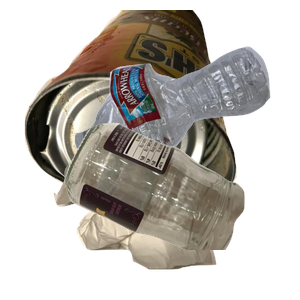glass: (62, 120, 300, 300)
metal: (22, 10, 251, 190)
plastic: (72, 44, 300, 200)
trash: (51, 155, 261, 300)
